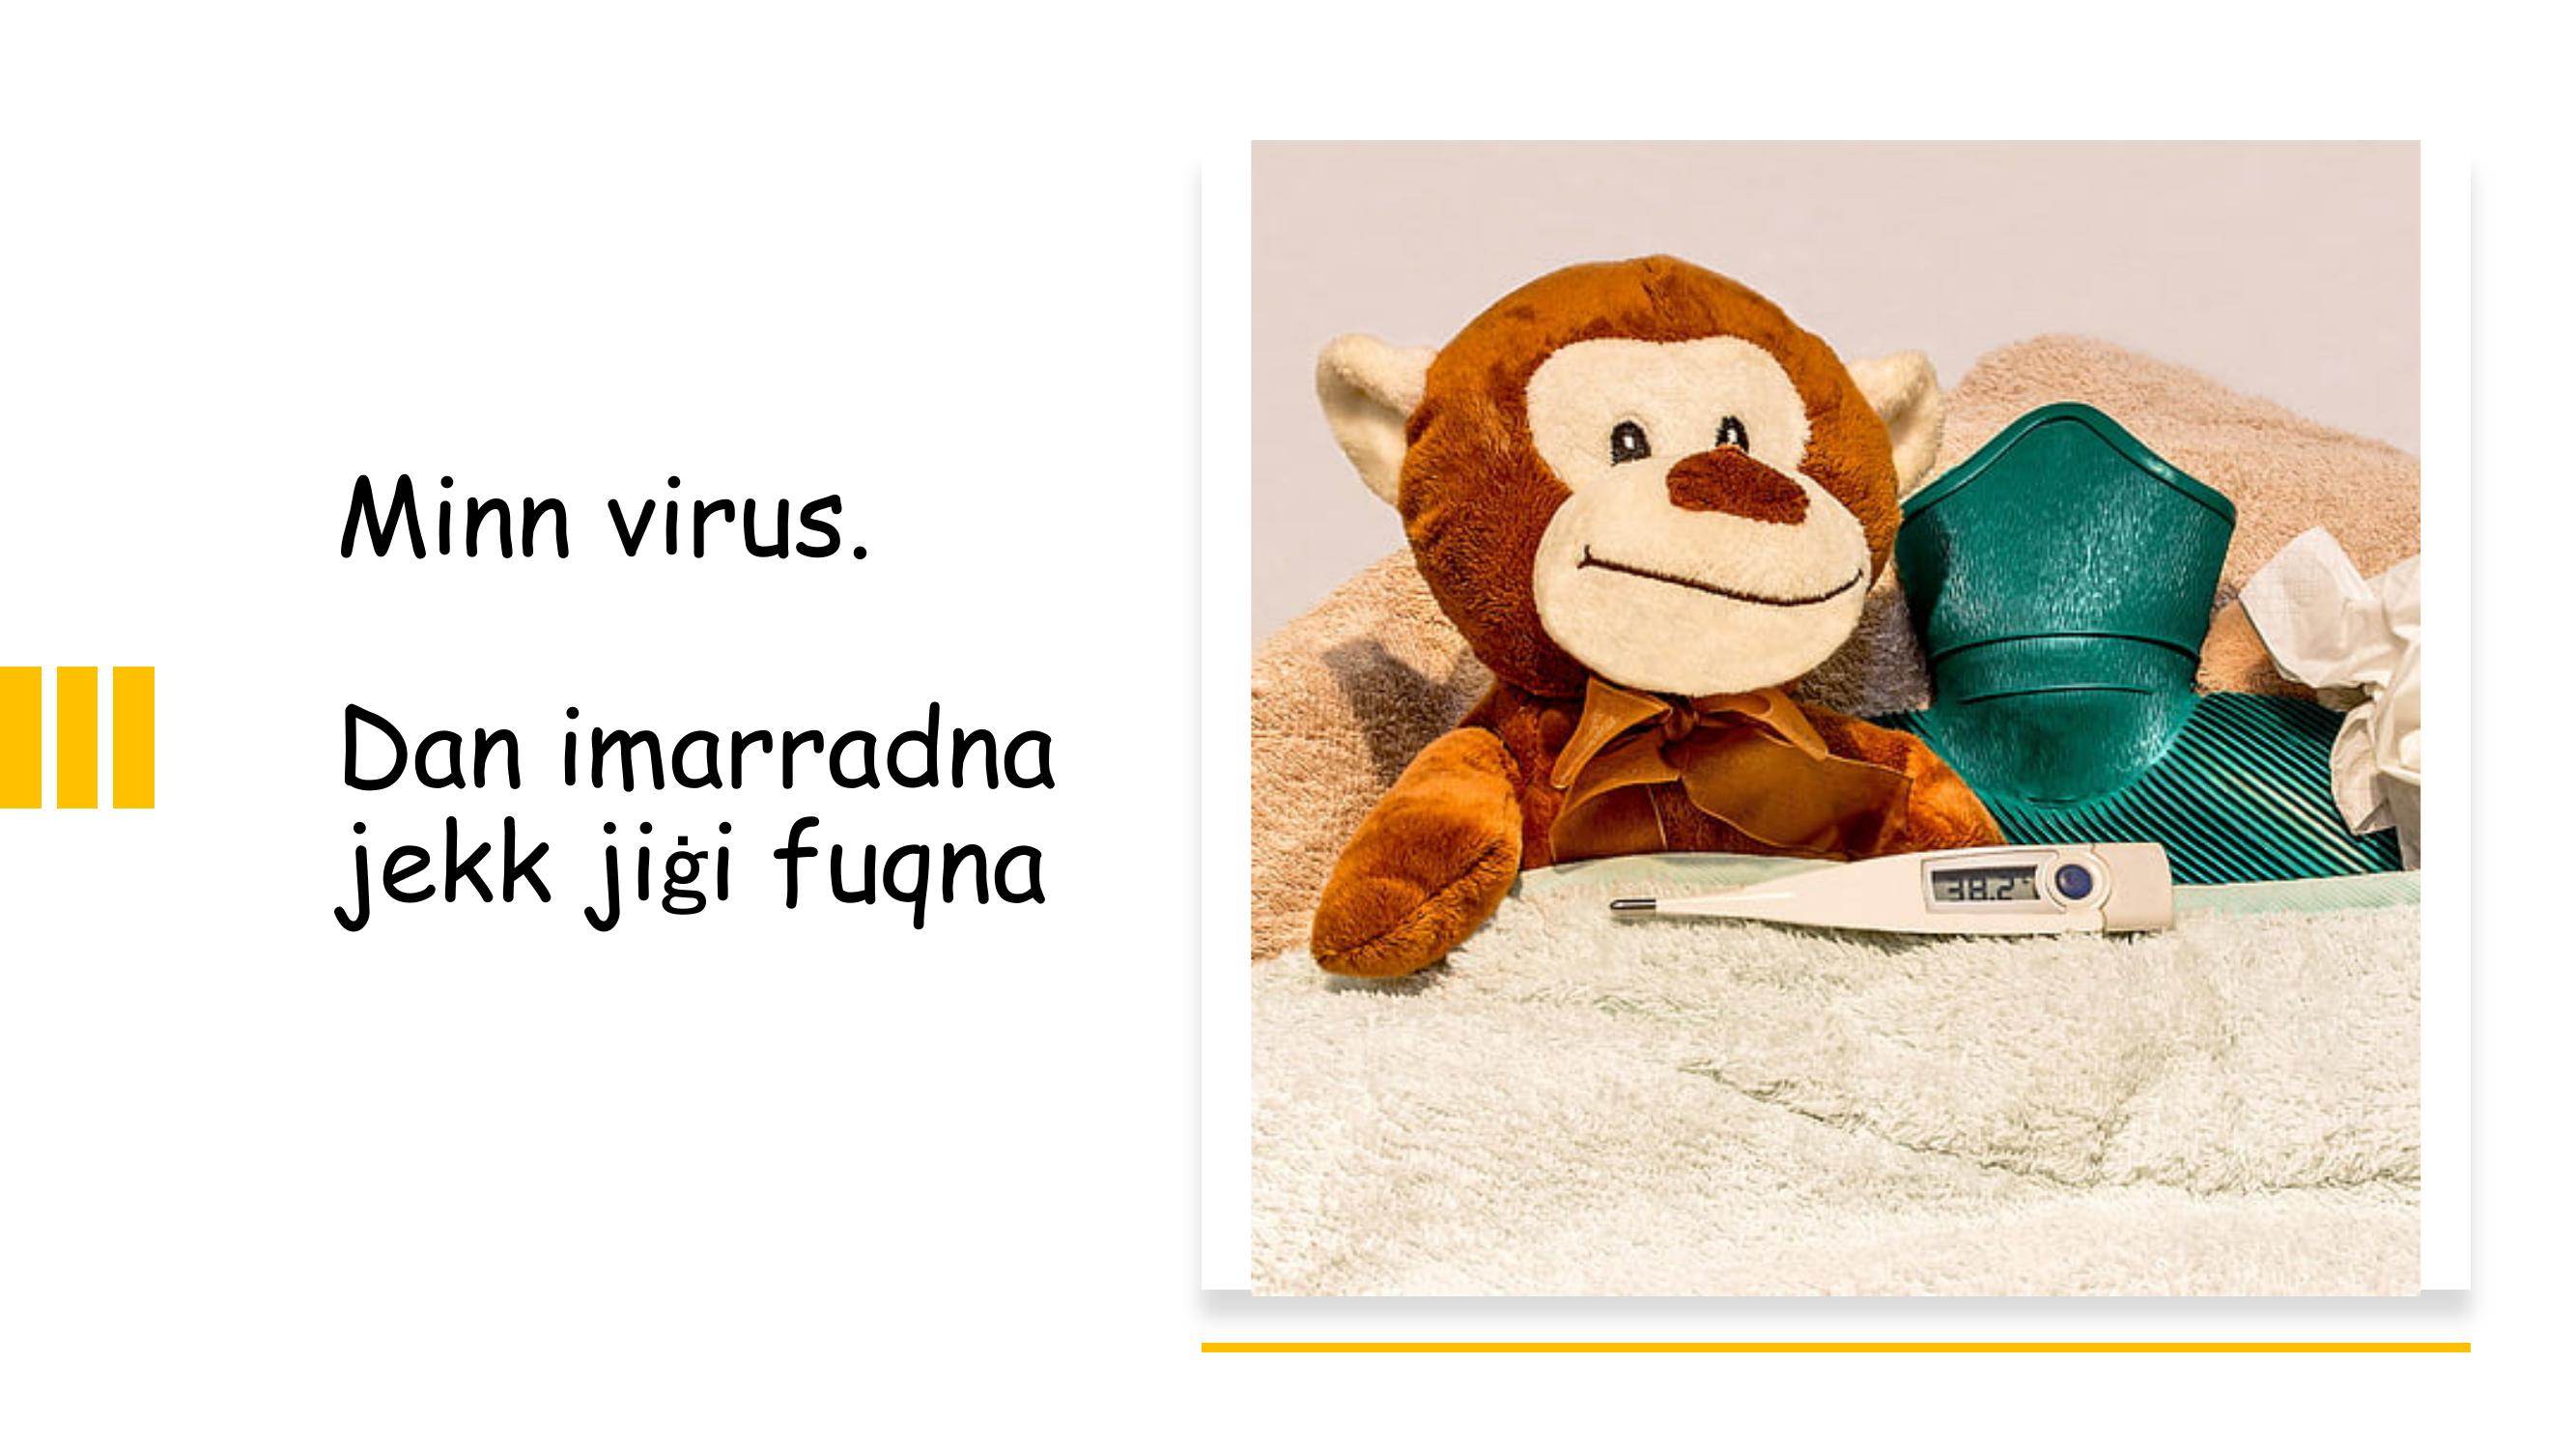text: (306, 446, 1069, 955)
